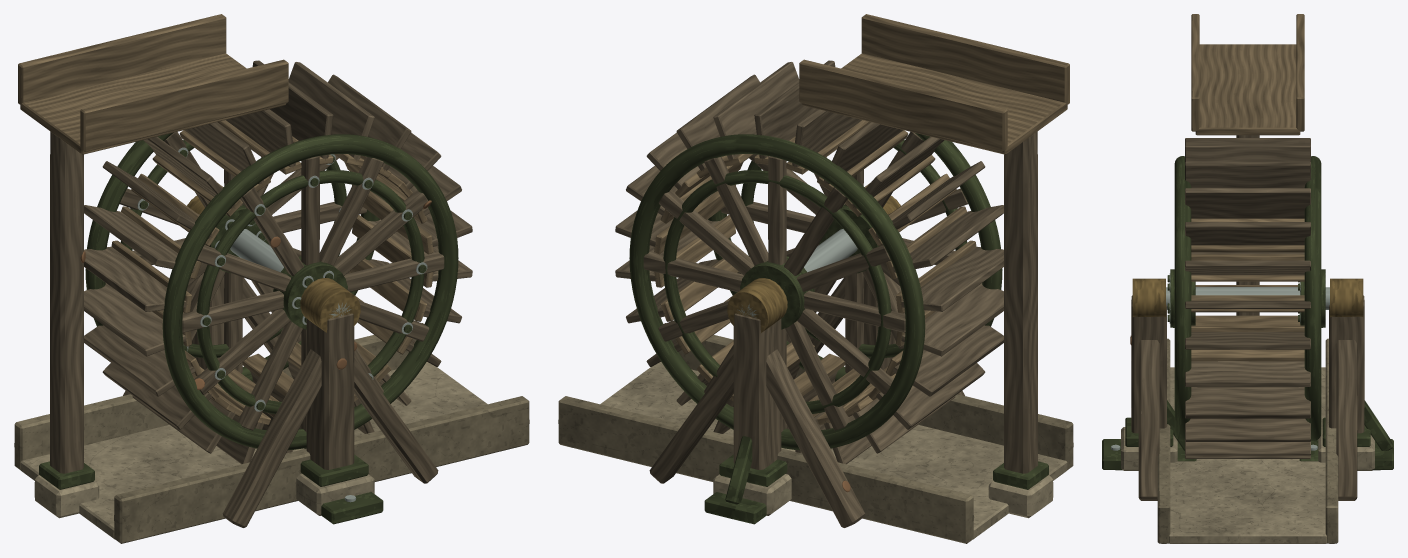
3 views of the same model, side by side, from view 1: azimuth 30°, elevation 25°; view 2: azimuth 150°, elevation 25°; view 3: azimuth 270°, elevation 25° (orthographic). The views are drawn at different scales.
Parts seen in each view (by area): view 1: quarter-sawn-timber (×2), exposed-end-grain (×2), olive-painted-field-steel (×2), weathered-sandstone-ashlar, sandstone-edges, machined-bearing-steel (×2), aged-bronze; view 2: quarter-sawn-timber (×2), exposed-end-grain (×2), olive-painted-field-steel (×2), weathered-sandstone-ashlar, sandstone-edges, aged-bronze, machined-bearing-steel; view 3: quarter-sawn-timber (×2), exposed-end-grain (×2), sandstone-edges, olive-painted-field-steel (×2), weathered-sandstone-ashlar, aged-bronze, machined-bearing-steel.
Part boxes in pixels (x1,y1,x2,y2): quarter-sawn-timber (×2): (50, 60, 472, 527); exposed-end-grain (×2): (18, 14, 433, 424); olive-painted-field-steel (×2): (39, 132, 458, 524); weathered-sandstone-ashlar: (14, 323, 529, 543); sandstone-edges: (20, 362, 487, 539); machined-bearing-steel (×2): (137, 147, 427, 502); aged-bronze: (187, 195, 360, 332); quarter-sawn-timber (×2): (615, 60, 1037, 527); exposed-end-grain (×2): (654, 14, 1069, 424); olive-painted-field-steel (×2): (629, 132, 1048, 524); weathered-sandstone-ashlar: (558, 323, 1073, 543); sandstone-edges: (600, 362, 1067, 539); aged-bronze: (727, 195, 900, 332); machined-bearing-steel: (737, 229, 857, 318); quarter-sawn-timber (×2): (1131, 135, 1364, 500); exposed-end-grain (×2): (1191, 14, 1304, 361); sandstone-edges: (1121, 367, 1374, 543); olive-painted-field-steel (×2): (1102, 156, 1393, 470); weathered-sandstone-ashlar: (1157, 338, 1338, 543); aged-bronze: (1132, 278, 1363, 317); machined-bearing-steel: (1111, 287, 1329, 450).
Bounding box in the file's own units: 2 × 1.89 × 1.39.
Materials: 9 (7 with a texture image).
